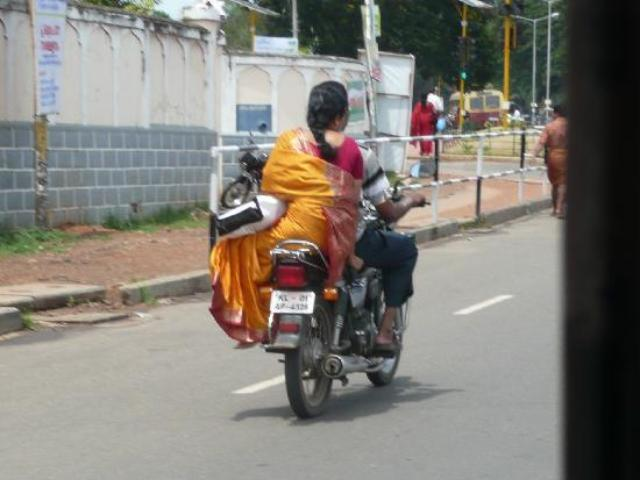licensePlate: (273, 289, 317, 313)
motorcycle: (221, 75, 422, 421)
withoutHelmet: (308, 83, 358, 138)
